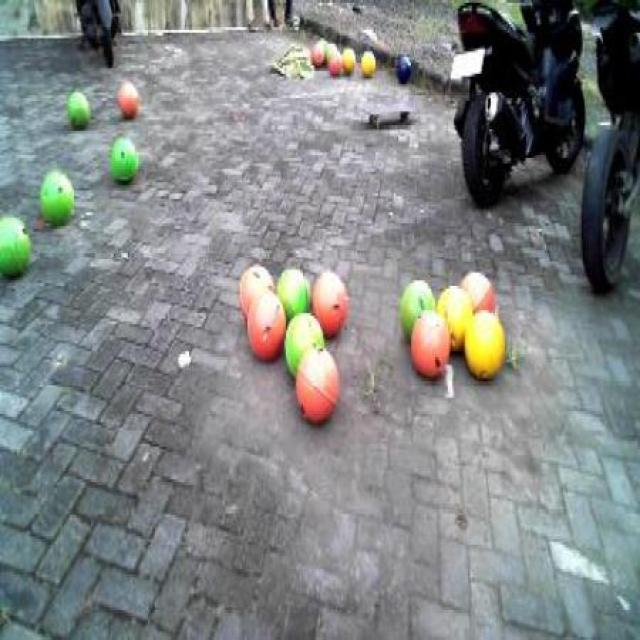buoy: (295, 342, 339, 429), (280, 306, 329, 378), (407, 304, 452, 380), (461, 304, 505, 380), (244, 287, 288, 358), (38, 162, 79, 233), (272, 255, 316, 320), (436, 280, 474, 354), (397, 268, 436, 339), (310, 266, 348, 336), (0, 207, 31, 281), (238, 263, 275, 323), (461, 262, 496, 324), (105, 132, 141, 189), (63, 93, 88, 136), (117, 75, 139, 116)
